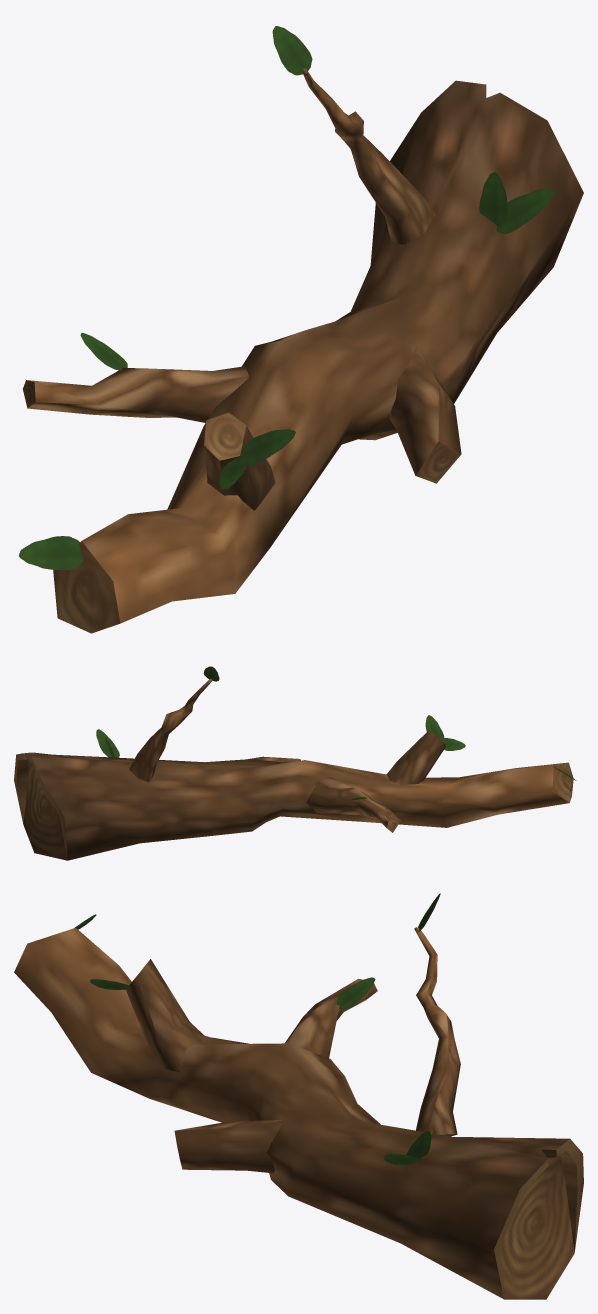
Rendered from Tree_Fall1.fbx.
3 views of the same model, one above another, from view 1: azimuth 30°, elevation 25°; view 2: azimuth 150°, elevation 25°; view 3: azimuth 270°, elevation 25° (orthographic). The views are drawn at different scales.
Parts seen in each view (by area): view 1: Tree_Fall1; view 2: Tree_Fall1; view 3: Tree_Fall1.
Part boxes in pixels (x1,y1,x2,y2): Tree_Fall1: (19, 26, 583, 633); Tree_Fall1: (14, 666, 576, 860); Tree_Fall1: (14, 893, 583, 1299).
Size of the model in its own units: 337 by 148 by 250.
2 materials, 2 textured.
